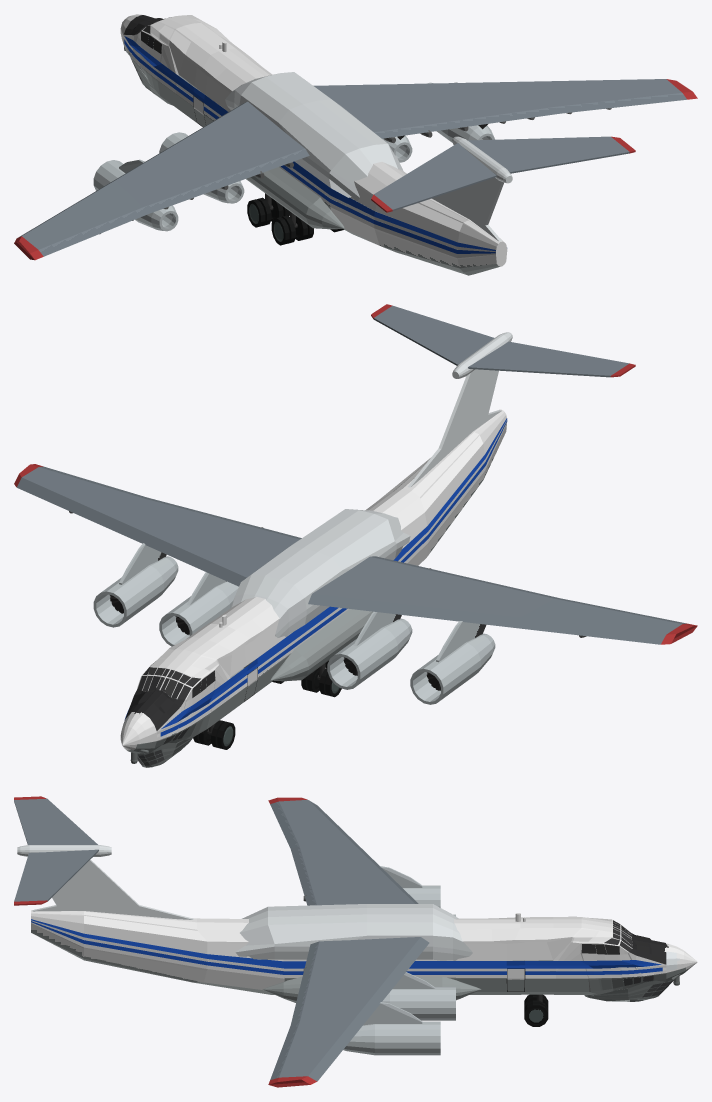
The model's file is low_poly_tplane.glb.
3 renders of one model, top to bottom at view 1: azimuth 30°, elevation 25°; view 2: azimuth 150°, elevation 25°; view 3: azimuth 270°, elevation 25°, orthographic. The views are drawn at different scales.
Visible parts, largest first — view 1: cylinder_8, cuboid_53, cuboid_31, cylinder_30, cuboid_20, cuboid_22, cylinder_7, cylinder_73, cuboid_18, cylinder_64, cylinder_63, cylinder_19 (+4 smaller); view 2: cylinder_8, cuboid_53, cuboid_31, cylinder_30, cylinder_7, cuboid_22, cuboid_20, cuboid_18, cylinder_63, cylinder_46, cylinder_64, cylinder_73 (+5 smaller); view 3: cylinder_8, cuboid_31, cylinder_30, cuboid_53, cylinder_6, cuboid_18, cylinder_46, cuboid_20, cuboid_22, cylinder_45, cylinder_72, cylinder_27 (+5 smaller).
Boxes of the visible parts, x1,y1,x2,y2 form: cylinder_8: (120,14,507,275); cuboid_53: (19,101,309,256); cuboid_31: (313,79,686,138); cylinder_30: (225,72,403,212); cuboid_20: (468,136,629,173); cuboid_22: (374,143,496,210); cylinder_7: (124,36,495,253); cylinder_73: (246,166,344,229); cuboid_18: (432,177,503,241); cylinder_64: (93,160,178,231); cylinder_63: (159,132,244,203); cylinder_19: (452,136,512,183); cylinder_8: (120,409,507,753); cuboid_53: (308,556,686,644); cuboid_31: (17,466,301,586); cylinder_30: (230,509,410,660); cylinder_7: (160,418,507,736); cuboid_22: (468,341,629,377); cuboid_20: (373,305,494,365); cuboid_18: (407,369,501,487); cylinder_63: (327,618,412,689); cylinder_46: (93,556,178,627); cylinder_64: (410,633,495,704); cylinder_73: (270,608,372,681); cylinder_8: (31,910,697,994); cuboid_31: (270,937,429,1081); cylinder_30: (235,904,472,960); cuboid_53: (270,799,418,905); cylinder_6: (31,919,662,974); cuboid_18: (32,859,193,919); cylinder_46: (343,1021,440,1055); cuboid_20: (14,849,98,901); cuboid_22: (14,798,97,844); cylinder_45: (382,987,455,1020); cylinder_72: (263,976,481,1002); cylinder_27: (584,977,674,1001).
Bounding box in the file's own units: 13.81 × 3.97 × 14.04.
Materials: 6 (6 with a texture image).
